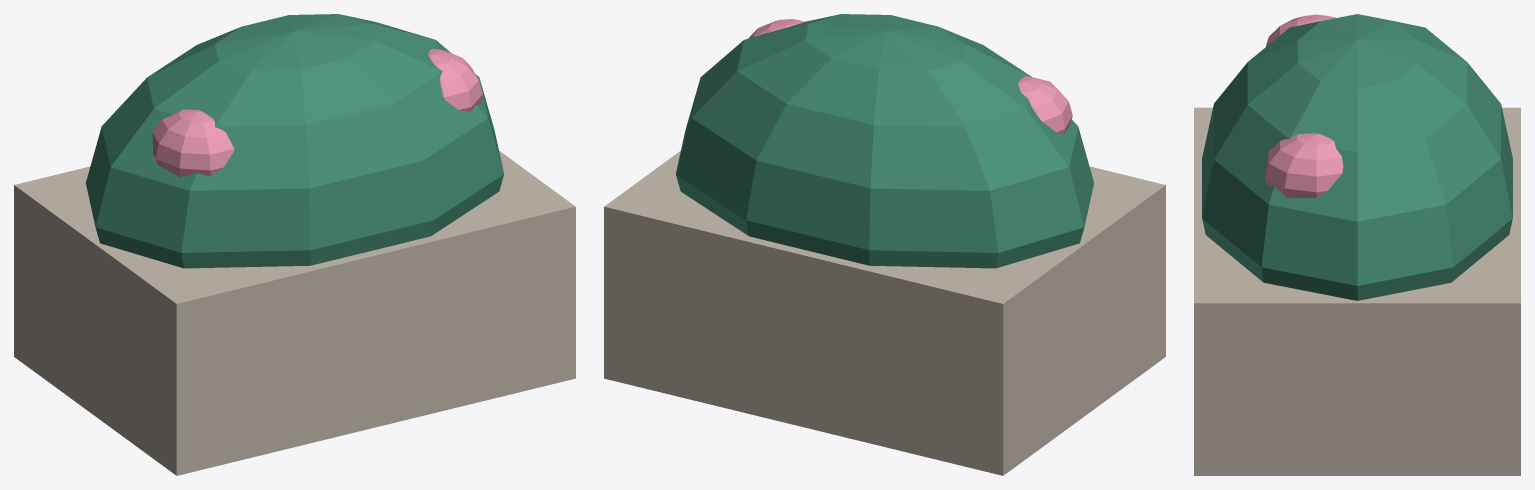
The model's file is planter.obj.
The picture shows the model from 3 angles, left to right: view 1: azimuth 30°, elevation 25°; view 2: azimuth 150°, elevation 25°; view 3: azimuth 270°, elevation 25°; orthographic projection.
Visible parts, largest first — view 1: planter; view 2: planter; view 3: planter.
Boxes of the visible parts, left/top/right/bottom form: planter: left=14, top=14, right=575, bottom=475; planter: left=604, top=14, right=1165, bottom=475; planter: left=1194, top=14, right=1520, bottom=475.
Bounding box in the file's own units: 1.7 × 1.37 × 1.2.
